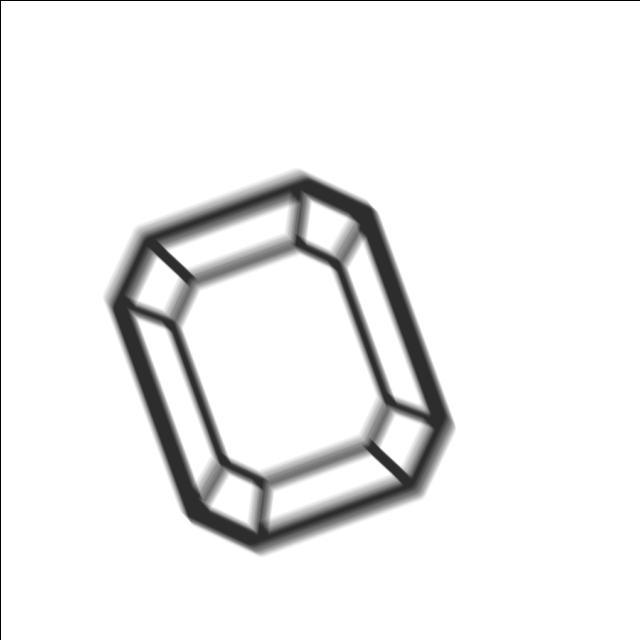emerald: (99, 159, 464, 562)
